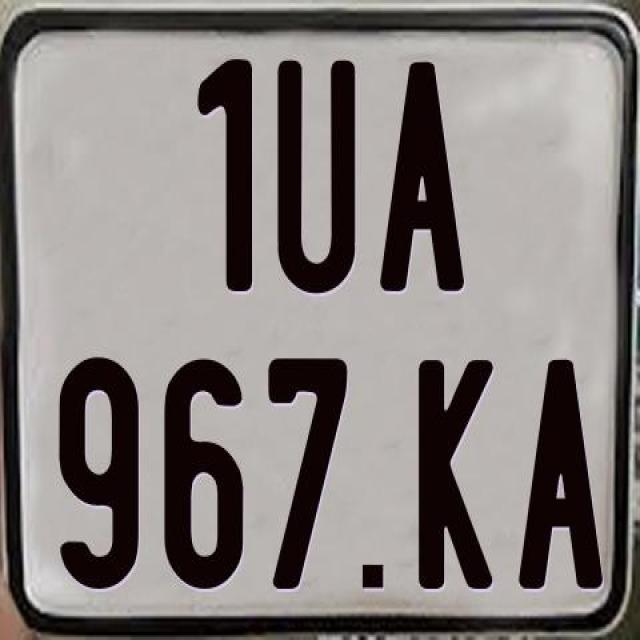1: (196, 56, 253, 293)
6: (162, 356, 242, 594)
7: (265, 355, 352, 587)
9: (57, 352, 139, 587)
A: (376, 58, 467, 292), (517, 360, 604, 590)
K: (418, 360, 493, 595)
U: (276, 56, 362, 294)
